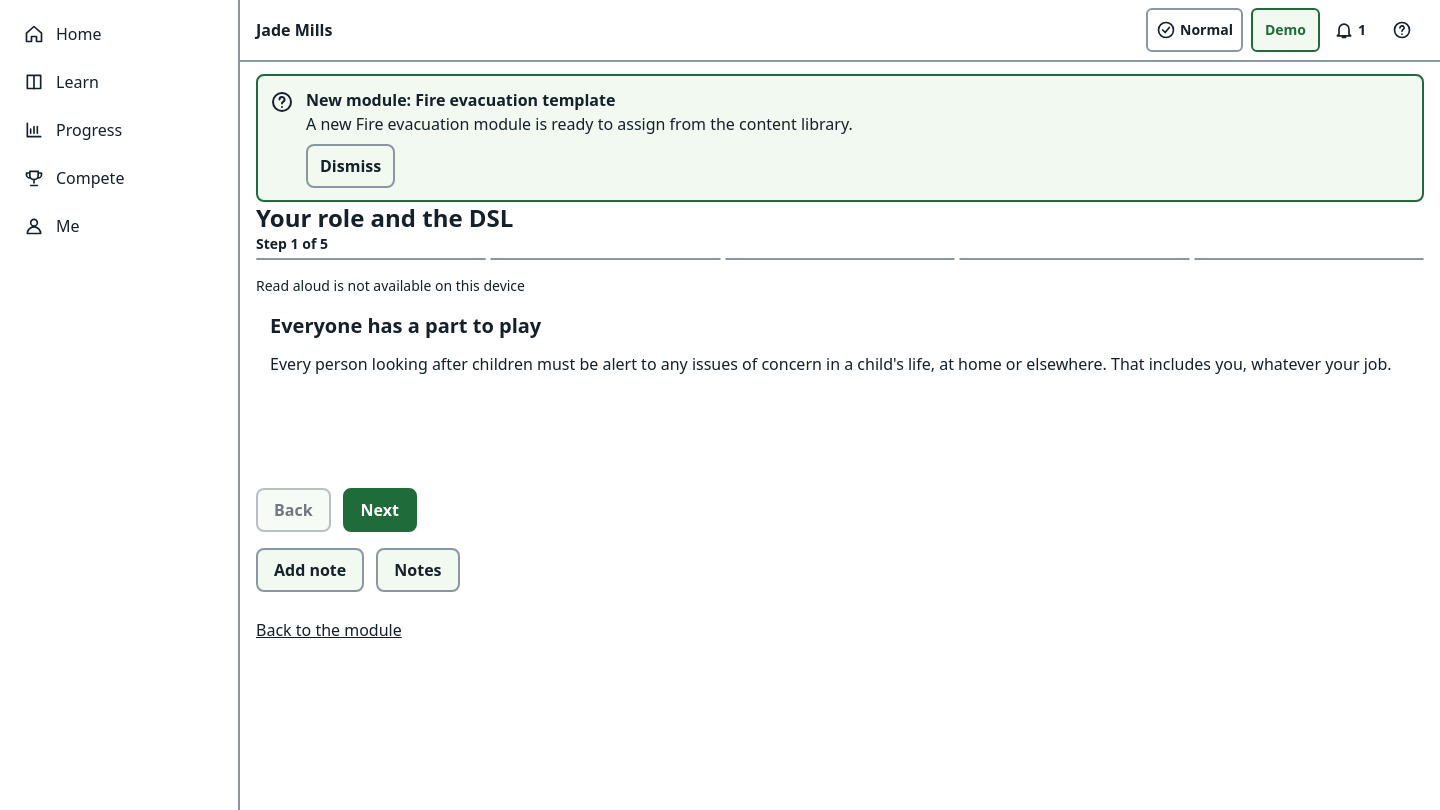
it: S5 lesson thumbs › stores a named thumbs down for the lesson and thanks the learner
Expected: the heading "Your role and the DSL" is shown, [256,202,513,234]
Step 1. Click the button "Next" → coordinates (380, 510), box [343,488,417,532]
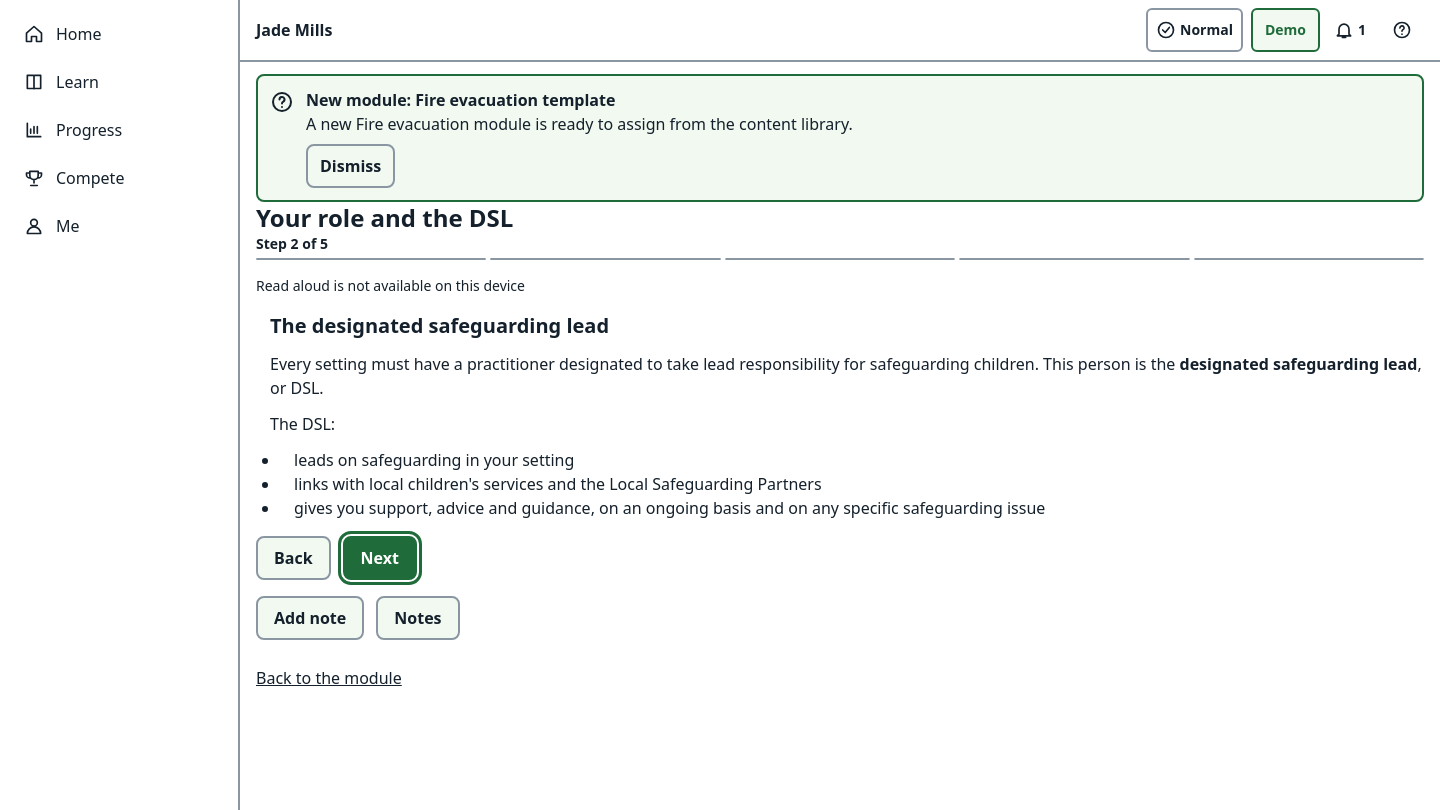
Step 2. Click the button "Next" → coordinates (380, 558), box [343,536,417,580]
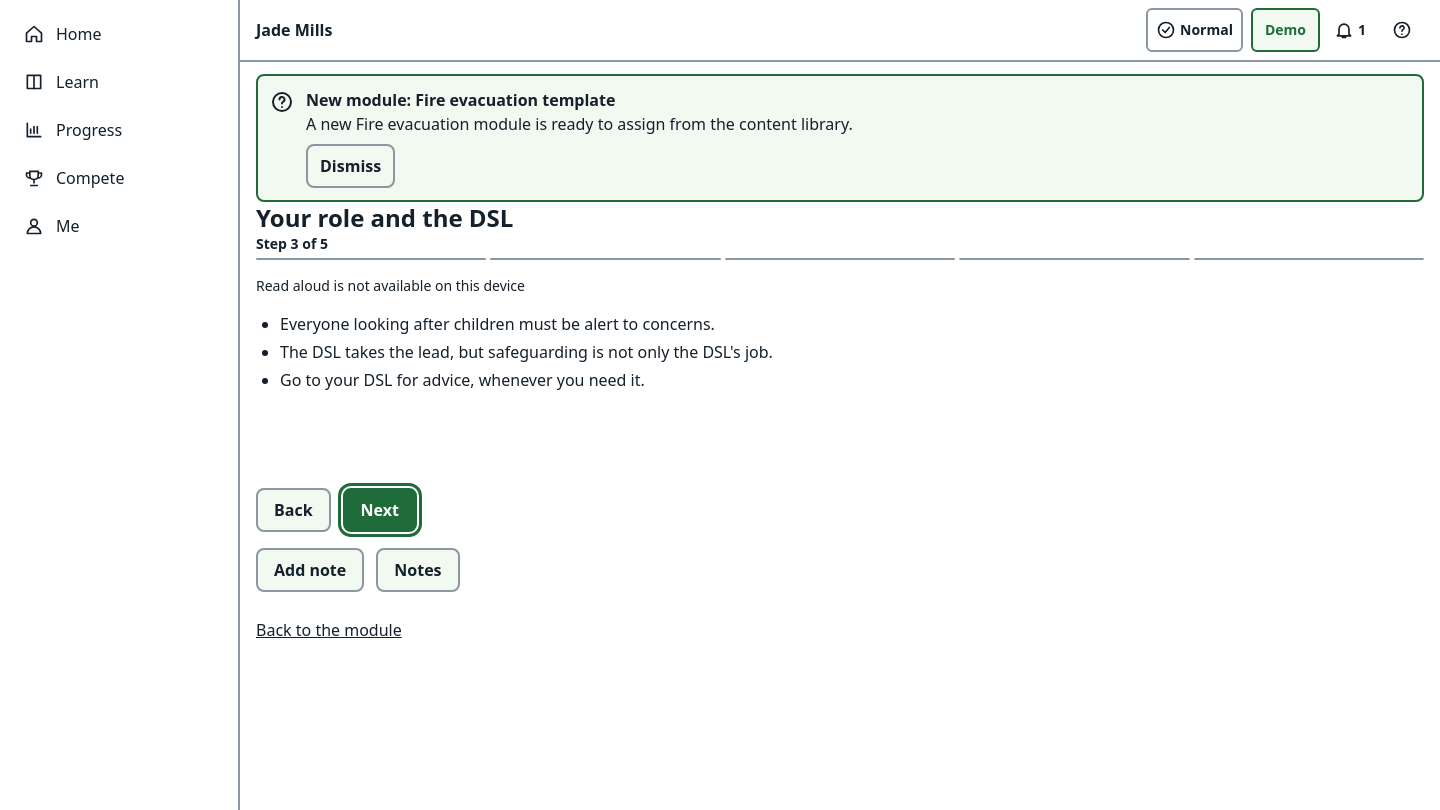
Step 3. Click the button "Next" → coordinates (380, 510), box [343,488,417,532]
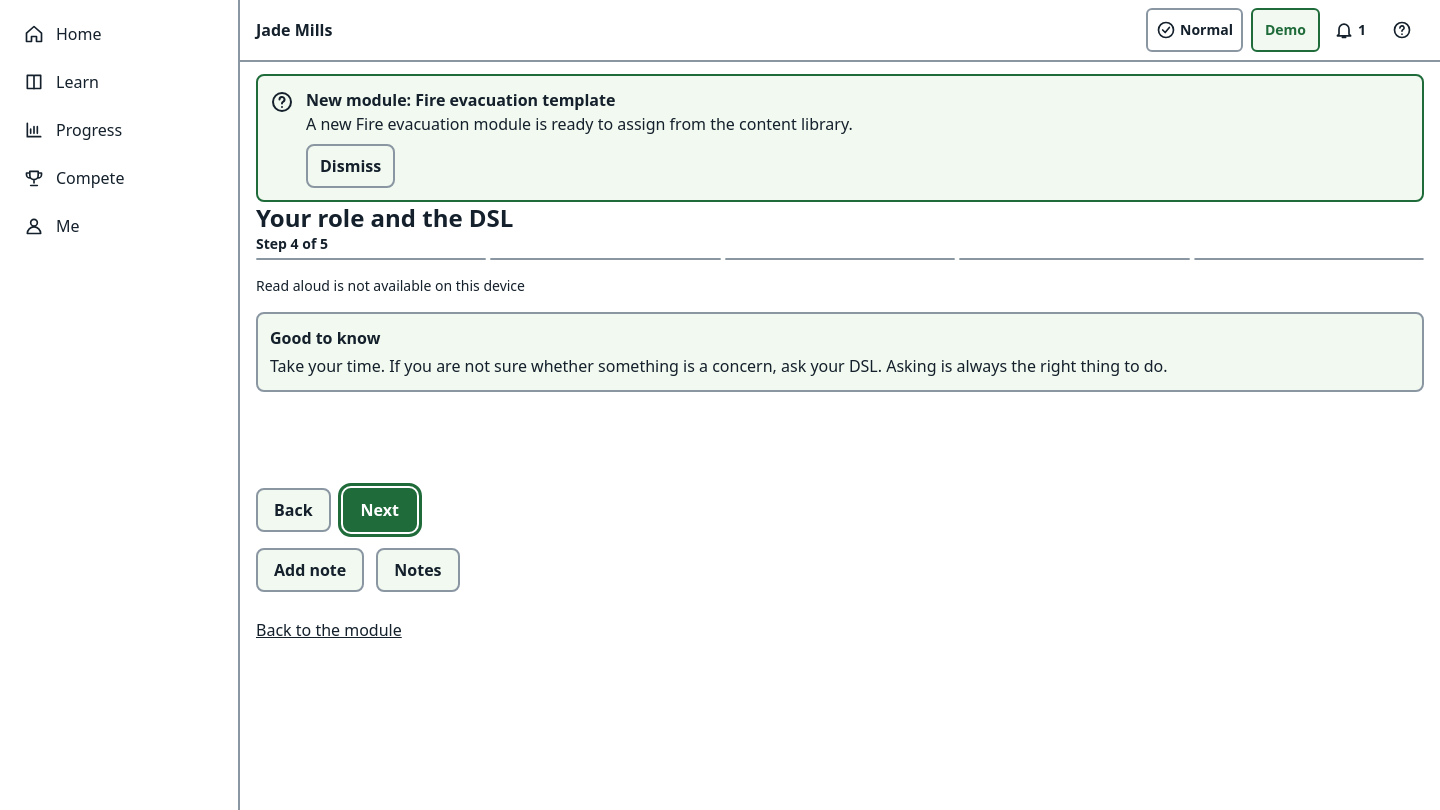
Step 4. Click the button "Next" → coordinates (380, 510), box [343,488,417,532]
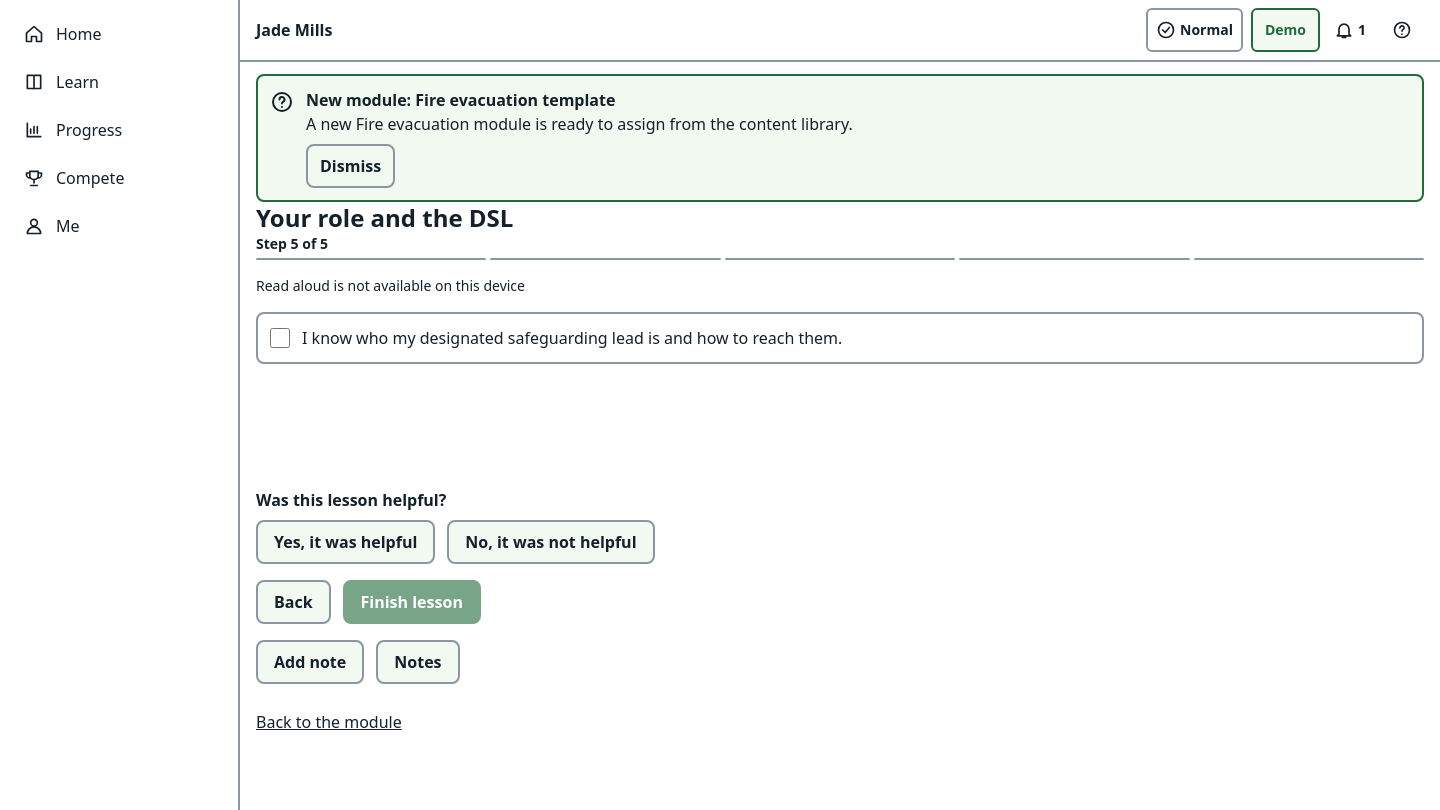
Step 5. Click the checkbox → coordinates (280, 338), box [270,328,290,348]
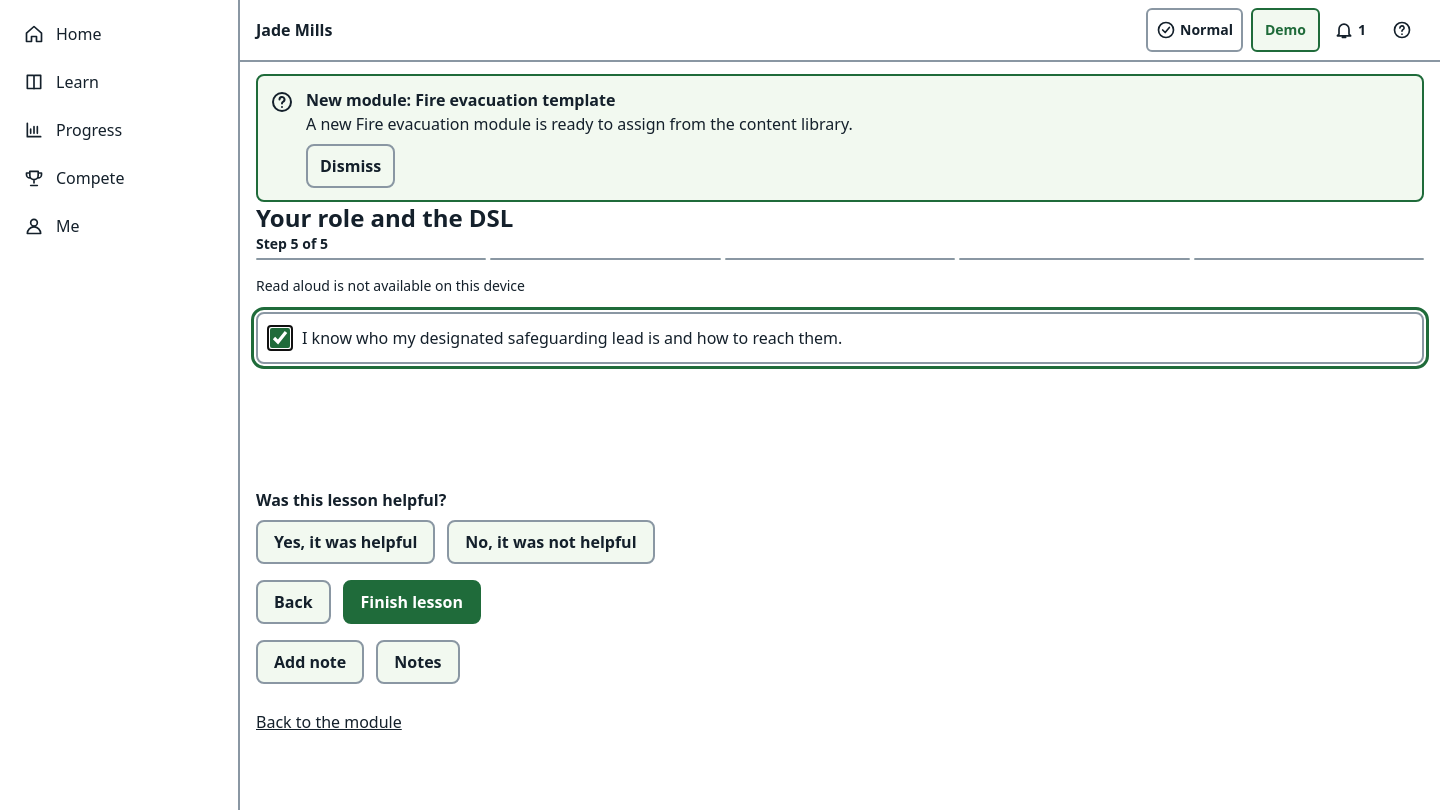
Step 6. Click the button "No, it was not helpful" → coordinates (551, 542), box [447,520,654,564]
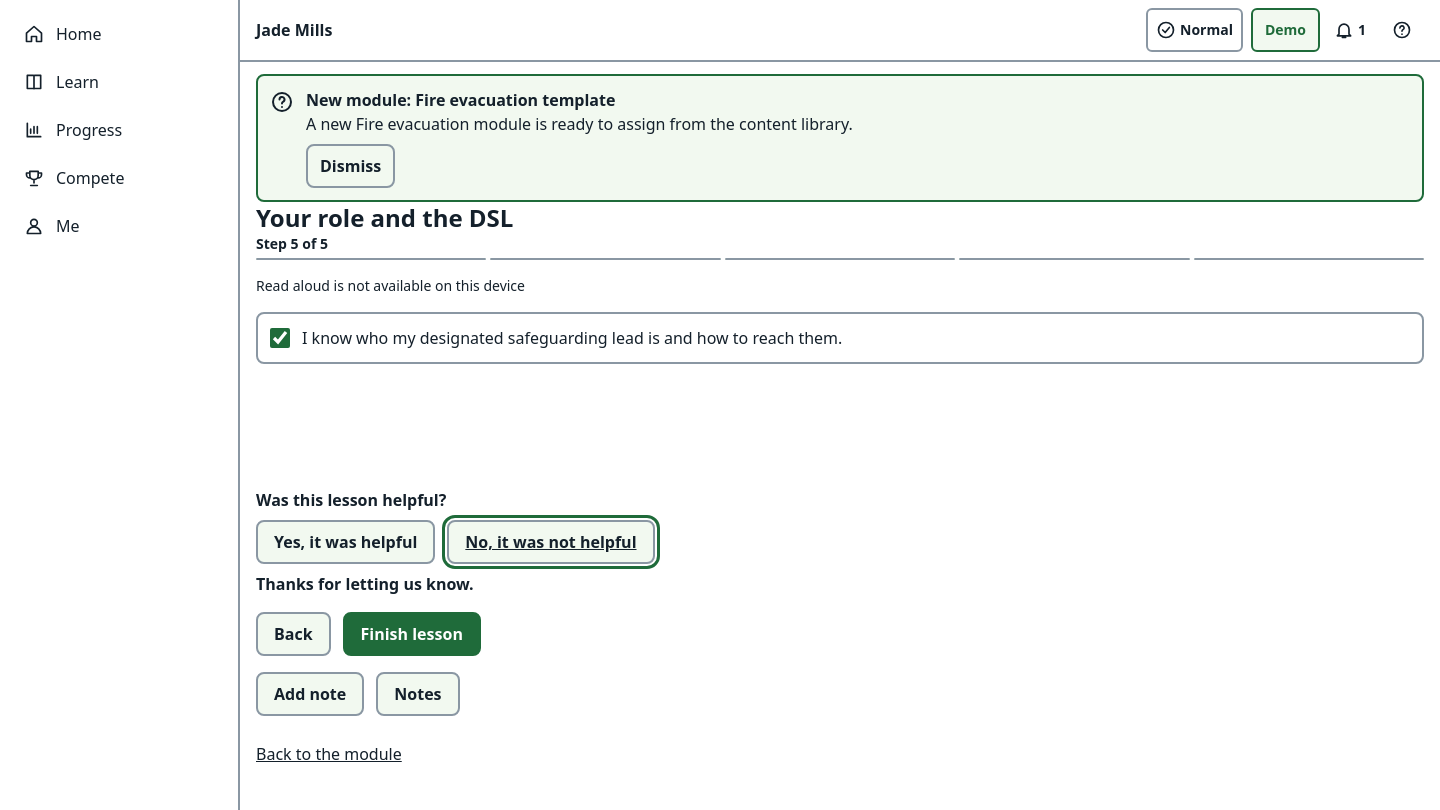
Result: the button "Finish lesson" is enabled at [343,612,481,656]
Result: the message reads "Thanks for letting us know." at [256,573,474,595]
